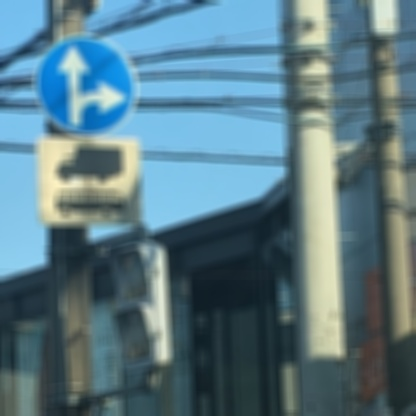Direction_sign: (33, 36, 144, 141)
